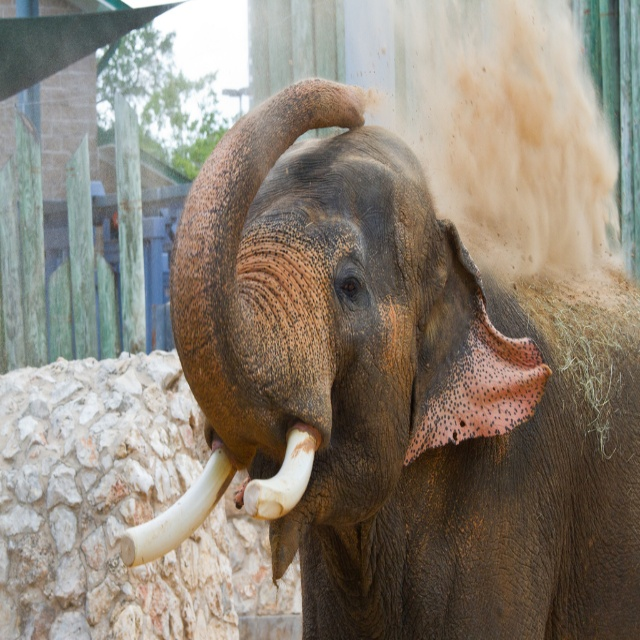Elephant: (119, 74, 640, 639)
